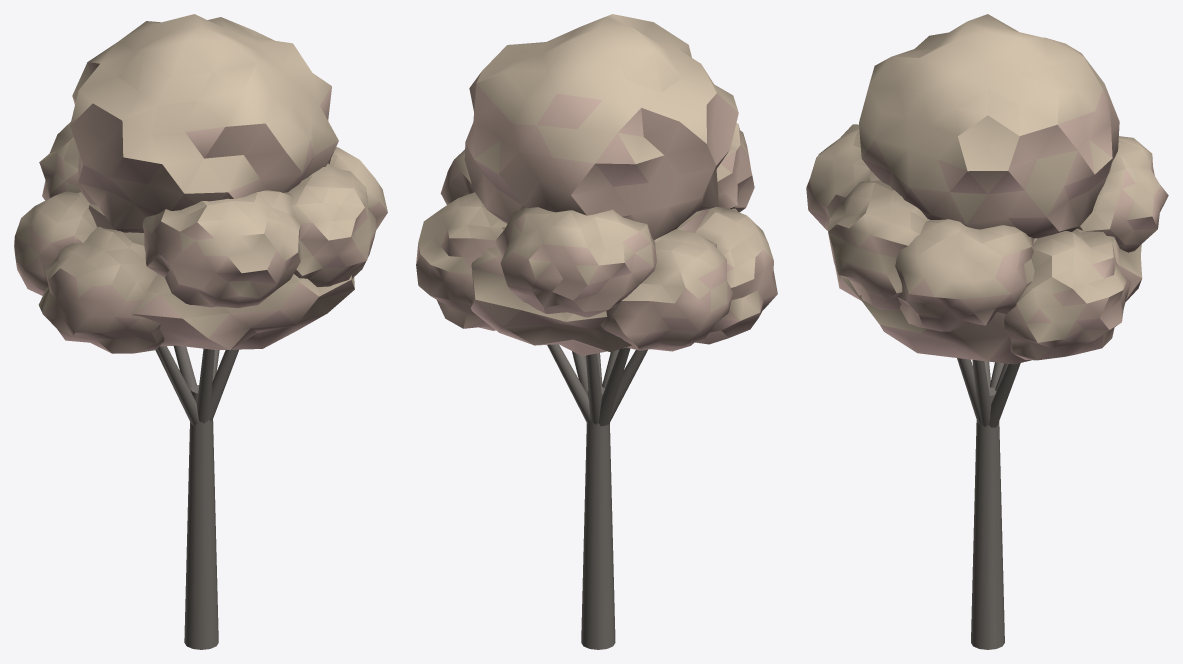
File: maple.glb
The picture shows the model from 3 angles, left to right: view 1: azimuth 30°, elevation 25°; view 2: azimuth 150°, elevation 25°; view 3: azimuth 270°, elevation 25°; orthographic projection.
Parts seen in each view (by area): view 1: maple.001; view 2: maple.001; view 3: maple.001.
Boxes of the visible parts, <box> form: maple.001: <box>14,14,387,649</box>; maple.001: <box>416,14,777,649</box>; maple.001: <box>806,14,1168,649</box>.
Bounding box in the file's own units: 3.42 × 6.32 × 3.4.
